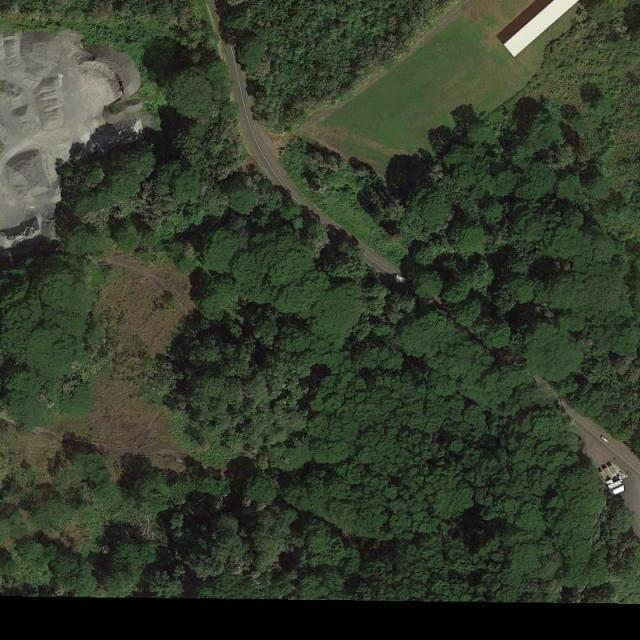vehicle: (395, 274, 406, 283), (601, 435, 607, 444)
